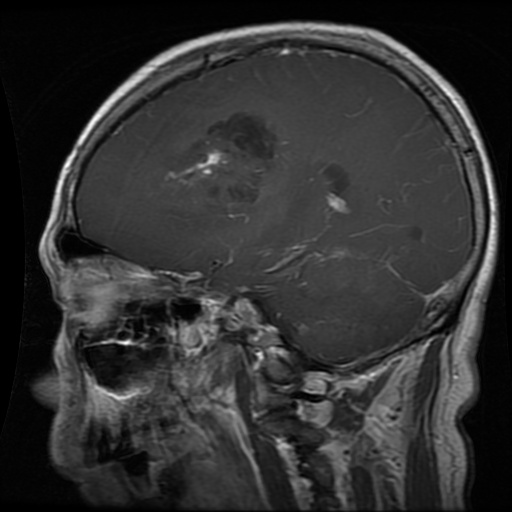glioma: (158, 111, 283, 204)
